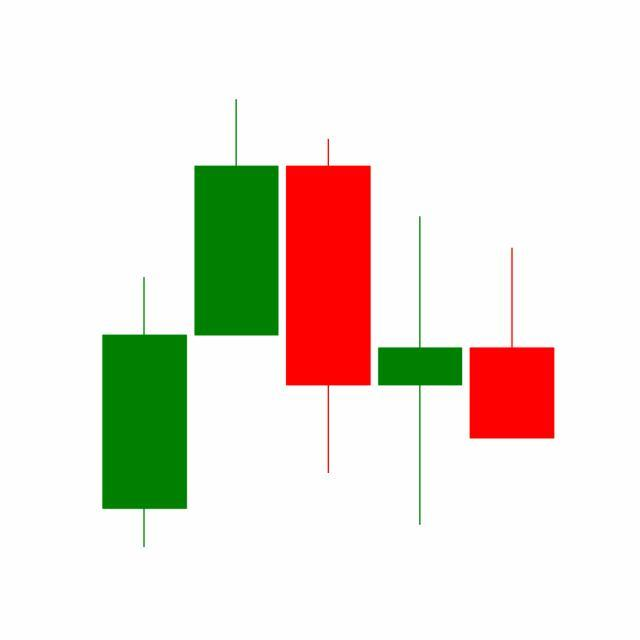Spinning Top: (374, 214, 468, 530)
